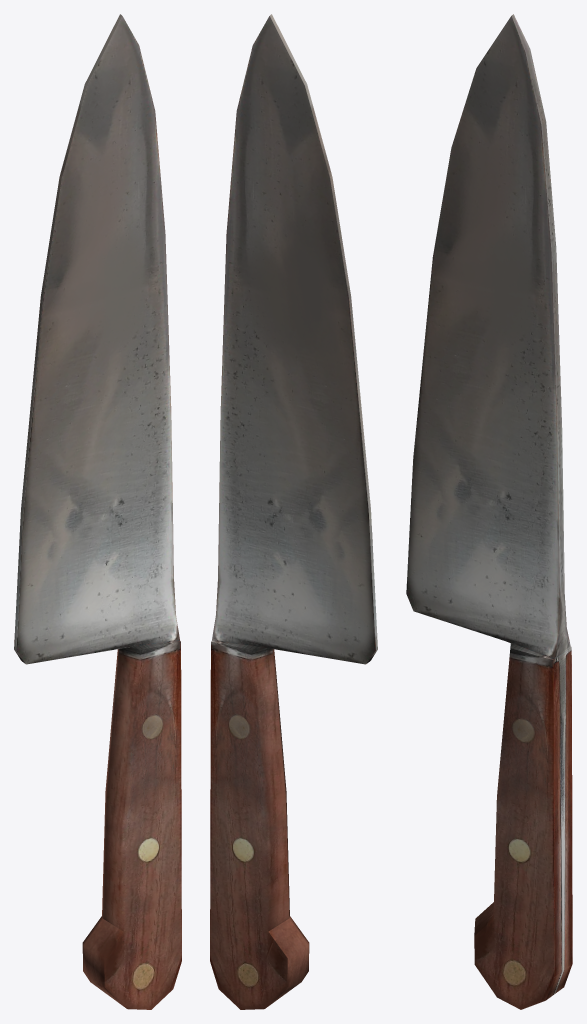
Rendered from SM_PRP_Knife_Generic_01_A.glb.
3 views of the same model, side by side, from view 1: azimuth 30°, elevation 25°; view 2: azimuth 150°, elevation 25°; view 3: azimuth 330°, elevation 25° (orthographic).
Parts seen in each view (by area): view 1: SM_PRP_Knife_Generic_01_A; view 2: SM_PRP_Knife_Generic_01_A; view 3: SM_PRP_Knife_Generic_01_A.
Boxes of the visible parts, x1=… form: SM_PRP_Knife_Generic_01_A: x1=14, y1=14, x2=181, y2=1009; SM_PRP_Knife_Generic_01_A: x1=210, y1=14, x2=377, y2=1009; SM_PRP_Knife_Generic_01_A: x1=406, y1=14, x2=572, y2=1009.
Size of the model in its own units: 0.0478 by 0.2876 by 0.0113.
1 material, 1 textured.
